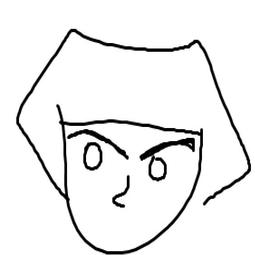empty_eye: (145, 153, 173, 187), (81, 140, 104, 173)
frowning_eyebrow: (62, 127, 128, 163), (137, 136, 197, 162)
nose: (111, 173, 133, 212)
